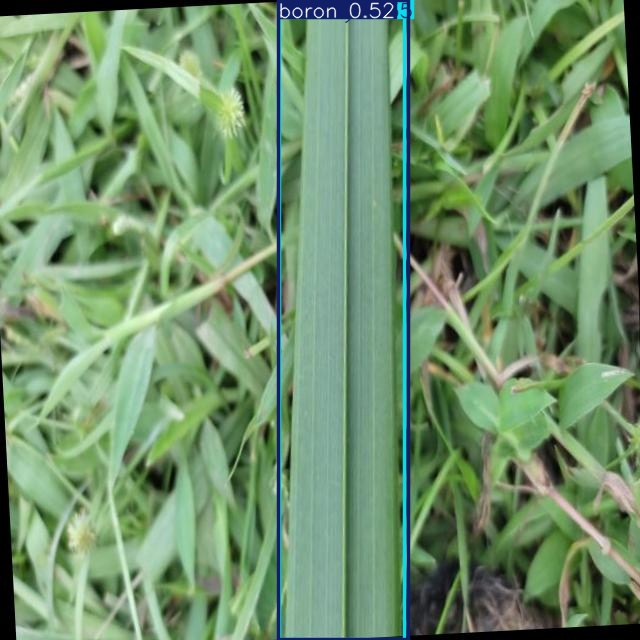Healthy: (280, 0, 404, 640)
nitrogen: (279, 0, 409, 640)
